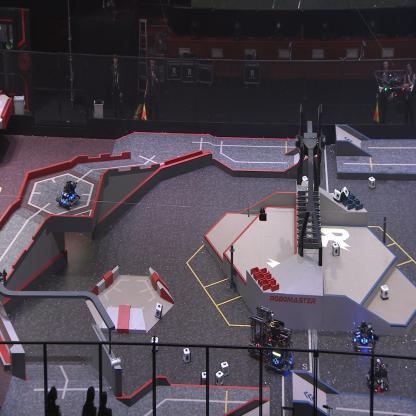car: (264, 318, 296, 374), (247, 304, 274, 358), (365, 357, 391, 392), (55, 178, 81, 210), (352, 319, 374, 354)
